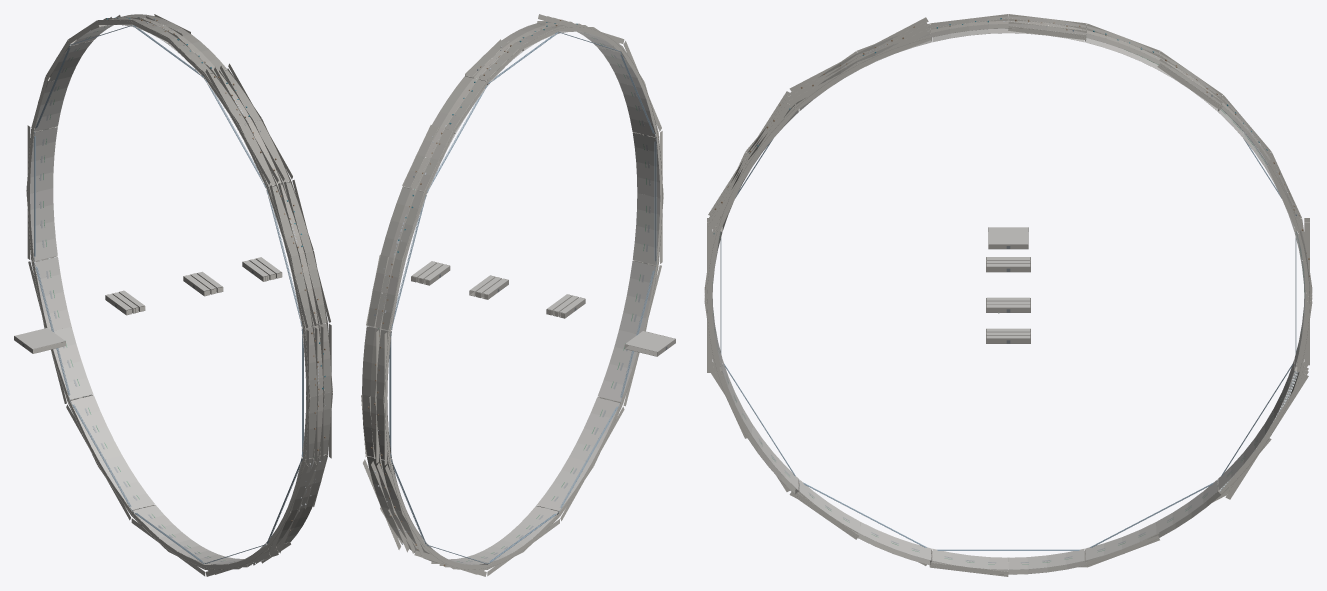
The model's file is xuanshu_interior_C14.glb.
3 views of the same model, side by side, from view 1: azimuth 30°, elevation 25°; view 2: azimuth 150°, elevation 25°; view 3: azimuth 270°, elevation 25° (orthographic). The views are drawn at different scales.
Parts seen in each view (by area): view 1: UNIT-ADM-002, UNIT-EDU-001, UNIT-ADM-001, UNIT-ARC-001, UNIT-REP-003, UNIT-EDU-003, UNIT-ARC-003, UNIT-WTR-003; view 2: UNIT-ADM-001, UNIT-ARC-001, UNIT-ADM-002, UNIT-EDU-001, UNIT-ARC-003, UNIT-REP-003, UNIT-EDU-003, UNIT-WTR-003; view 3: UNIT-ADM-001, UNIT-ARC-001, UNIT-ADM-002, UNIT-EDU-001, UNIT-REP-003, UNIT-EDU-003, UNIT-ARC-003, UNIT-WTR-003.
Boxes of the visible parts, left/top/right/bottom form: UNIT-ADM-002: left=26, top=127, right=155, bottom=515; UNIT-EDU-001: left=204, top=68, right=332, bottom=460; UNIT-ADM-001: left=31, top=14, right=226, bottom=132; UNIT-ARC-001: left=131, top=455, right=326, bottom=576; UNIT-REP-003: left=205, top=63, right=331, bottom=463; UNIT-EDU-003: left=131, top=454, right=327, bottom=569; UNIT-ARC-003: left=27, top=125, right=130, bottom=520; UNIT-WTR-003: left=14, top=328, right=65, bottom=353; UNIT-ADM-001: left=366, top=23, right=559, bottom=331; UNIT-ARC-001: left=467, top=261, right=661, bottom=576; UNIT-ADM-002: left=361, top=326, right=488, bottom=569; UNIT-EDU-001: left=537, top=21, right=663, bottom=265; UNIT-ARC-003: left=363, top=330, right=486, bottom=576; UNIT-REP-003: left=538, top=14, right=662, bottom=263; UNIT-EDU-003: left=487, top=260, right=658, bottom=569; UNIT-WTR-003: left=624, top=331, right=675, bottom=356; UNIT-ADM-001: left=930, top=14, right=1301, bottom=231; UNIT-ARC-001: left=711, top=359, right=1086, bottom=574; UNIT-ADM-002: left=1085, top=218, right=1312, bottom=567; UNIT-EDU-001: left=704, top=23, right=931, bottom=372; UNIT-REP-003: left=707, top=17, right=928, bottom=372; UNIT-EDU-003: left=715, top=364, right=1085, bottom=576; UNIT-ARC-003: left=1212, top=218, right=1309, bottom=502; UNIT-WTR-003: left=988, top=227, right=1028, bottom=249.
Size of the model in its own units: 185 by 366 by 366.
